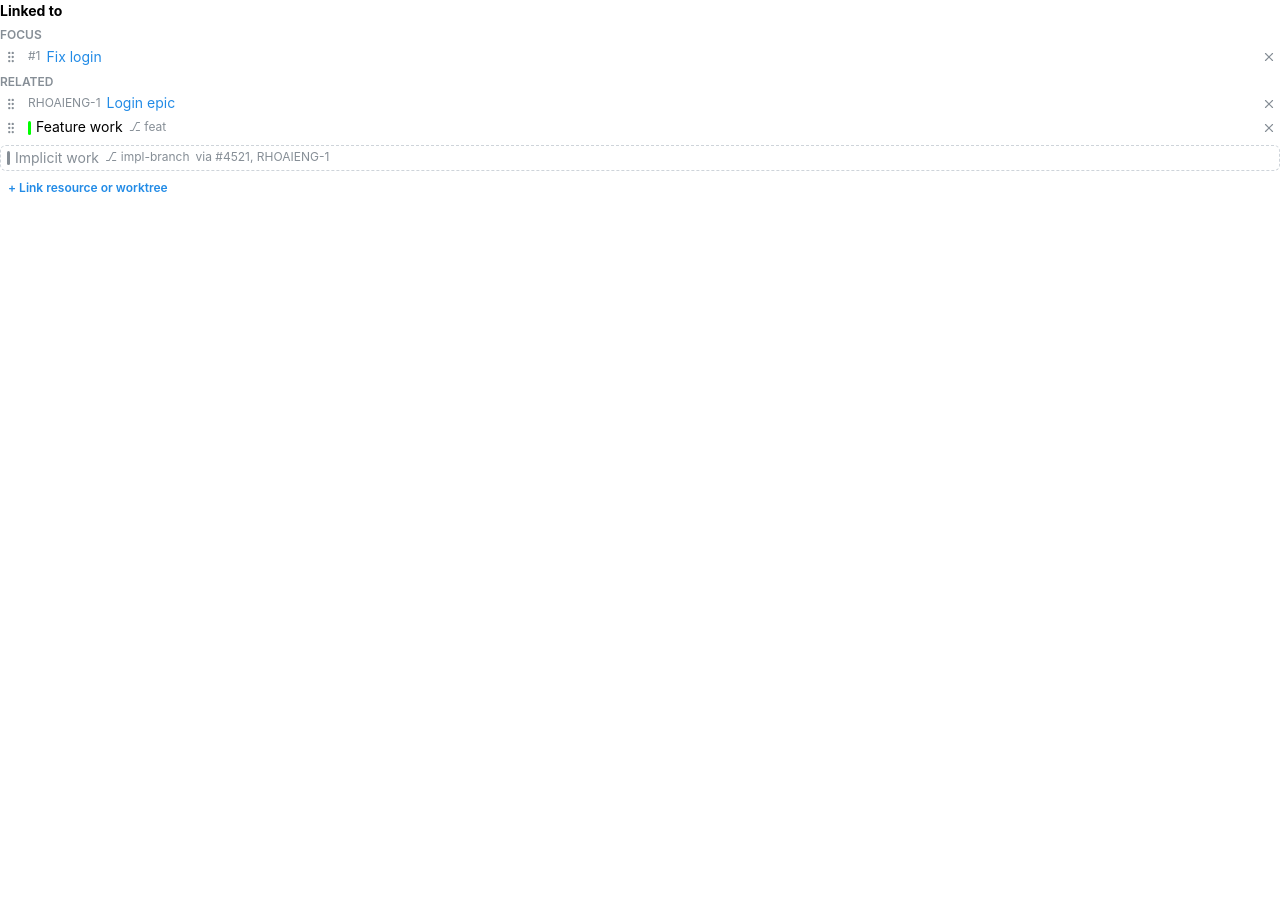
LinksSection › names worktrees by their cmux workspace, and previews links on hover
This screenshot has width=1280, height=900.
Expected: the text "⎇ feat" is shown, [129,119,166,136]
Expected: the text "Implicit work" is shown, [15,148,99,168]
Hover over the text "Feature work" at (79, 128), box [36,117,123,138]
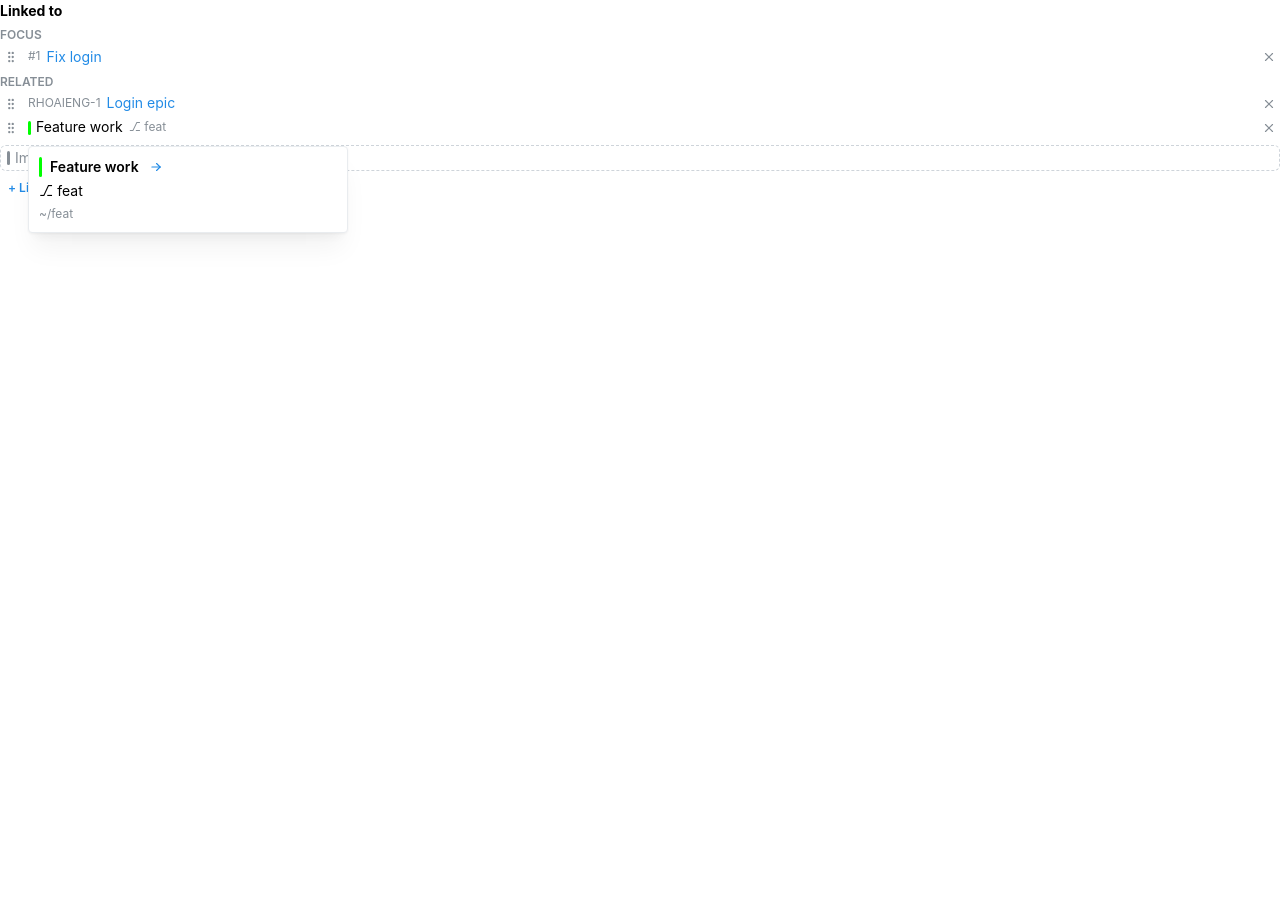
Expected: the text "~/feat" is shown, [39,205,73,220]
# The resource's preview names its worktree by the workspace too.
Hover over the link "Fix login" at (74, 57), box [46,47,102,67]
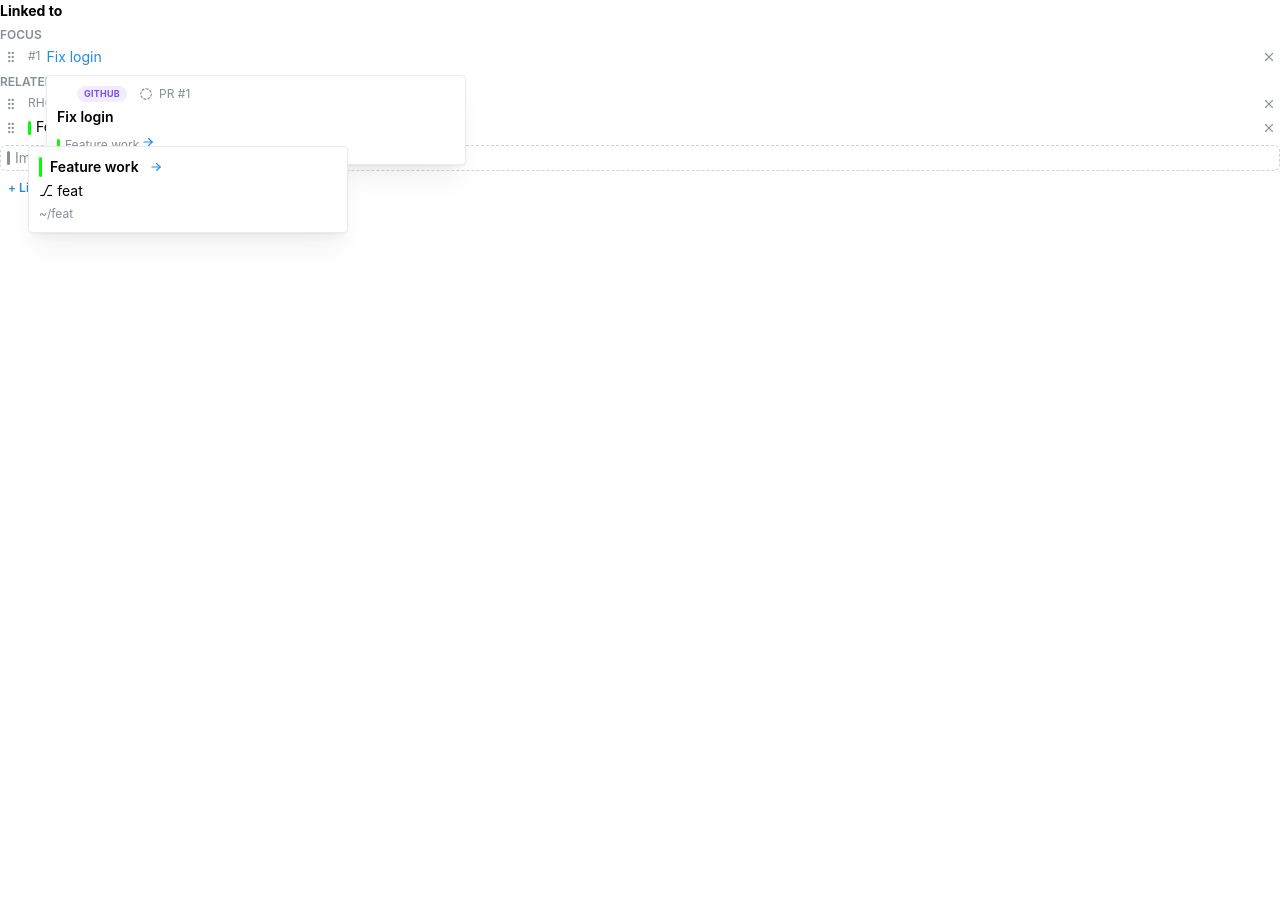
Expected: the text "Feature work" is shown 3 times, [36,117,123,138]; [66,137,140,154]; [50,157,139,177]
